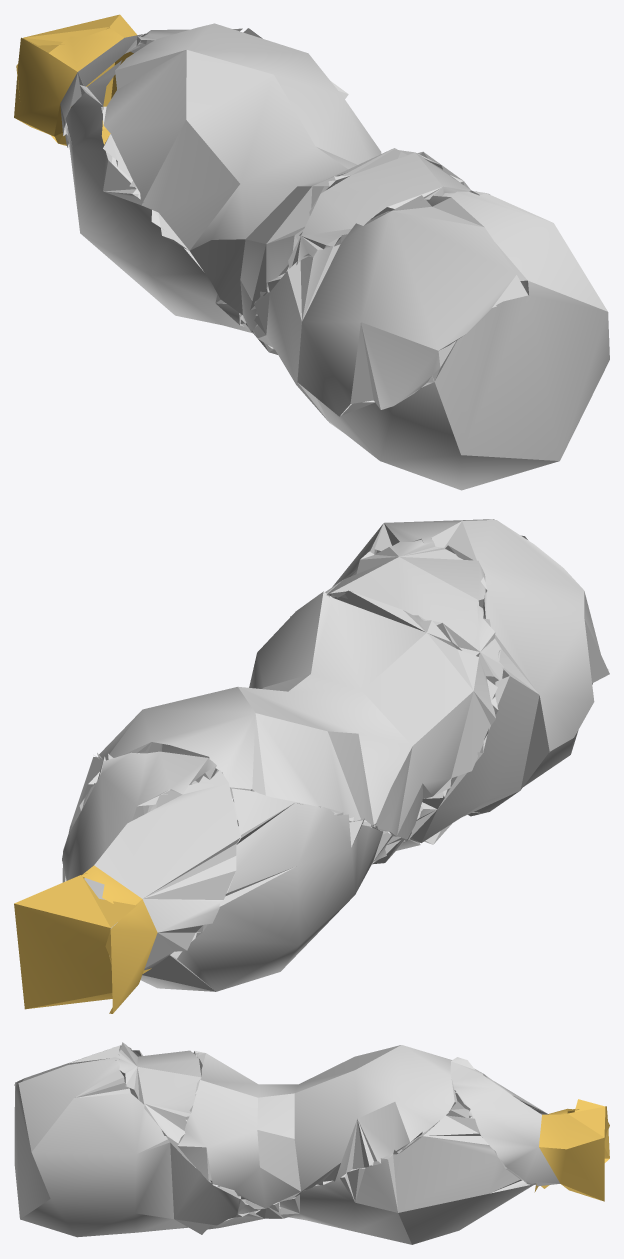
The model's file is plastic.glb.
3 views of the same model, one above another, from view 1: azimuth 30°, elevation 25°; view 2: azimuth 150°, elevation 25°; view 3: azimuth 270°, elevation 25° (orthographic). The views are drawn at different scales.
Visible parts, largest first — view 1: tripo_node_56e11af5-4925-4d1f-b8ec-85cdae79ed07.002; view 2: tripo_node_56e11af5-4925-4d1f-b8ec-85cdae79ed07.002; view 3: tripo_node_56e11af5-4925-4d1f-b8ec-85cdae79ed07.002.
Part boxes in pixels (left/top/right/bottom): tripo_node_56e11af5-4925-4d1f-b8ec-85cdae79ed07.002: left=14, top=14, right=609, bottom=490; tripo_node_56e11af5-4925-4d1f-b8ec-85cdae79ed07.002: left=14, top=519, right=609, bottom=1013; tripo_node_56e11af5-4925-4d1f-b8ec-85cdae79ed07.002: left=14, top=1042, right=609, bottom=1244.
Size of what is drawn, in the model's own units: 0.2198 by 0.217 by 0.6752.
